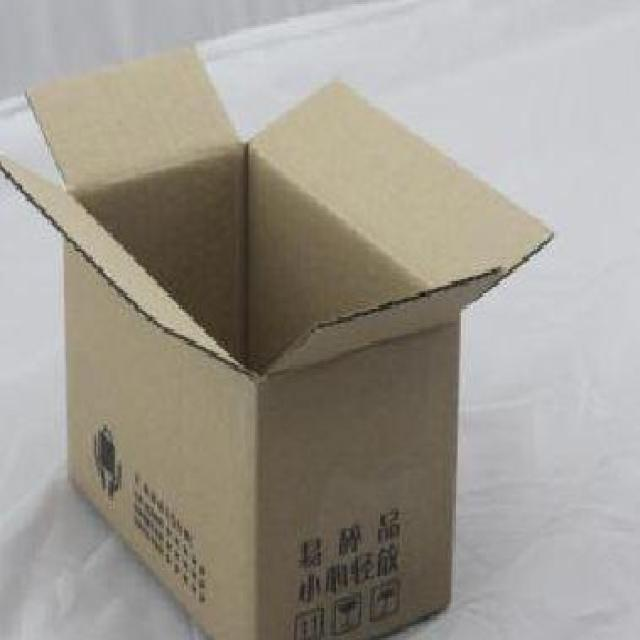cardboard: (9, 44, 554, 640)
